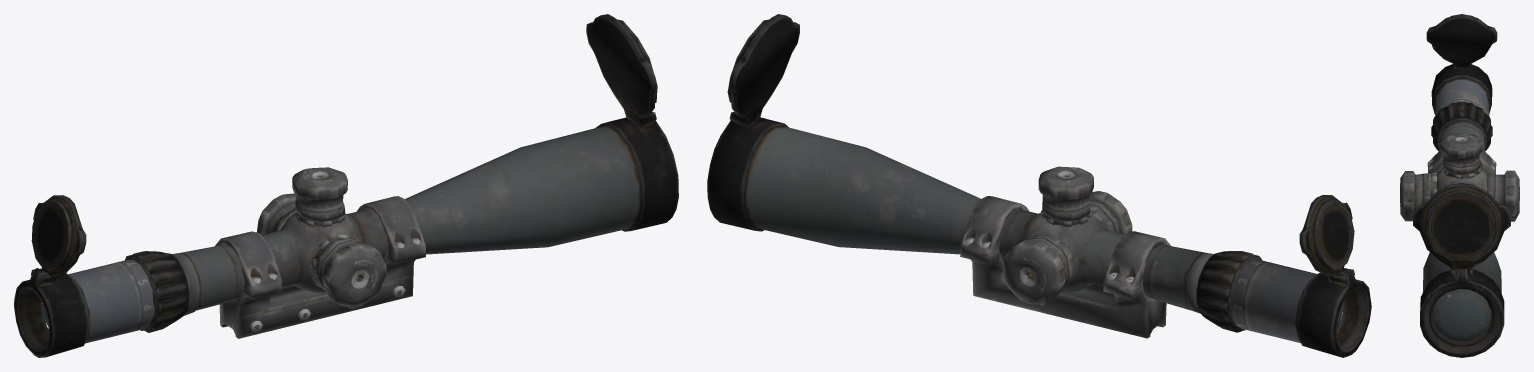
File: 8xscope.glb
The picture shows the model from 3 angles, left to right: view 1: azimuth 30°, elevation 25°; view 2: azimuth 150°, elevation 25°; view 3: azimuth 270°, elevation 25°; orthographic projection. The views are drawn at different scales.
Visible parts, largest first — view 1: 8xScope_LOD0; view 2: 8xScope_LOD0; view 3: 8xScope_LOD0.
Part boxes in pixels (x1,y1,x2,y2): 8xScope_LOD0: [14, 14, 678, 357]; 8xScope_LOD0: [707, 14, 1371, 357]; 8xScope_LOD0: [1400, 14, 1519, 357].
Size of the model in its own units: 0.4585 by 0.1562 by 0.1009.
Materials: 1 (1 with a texture image).
